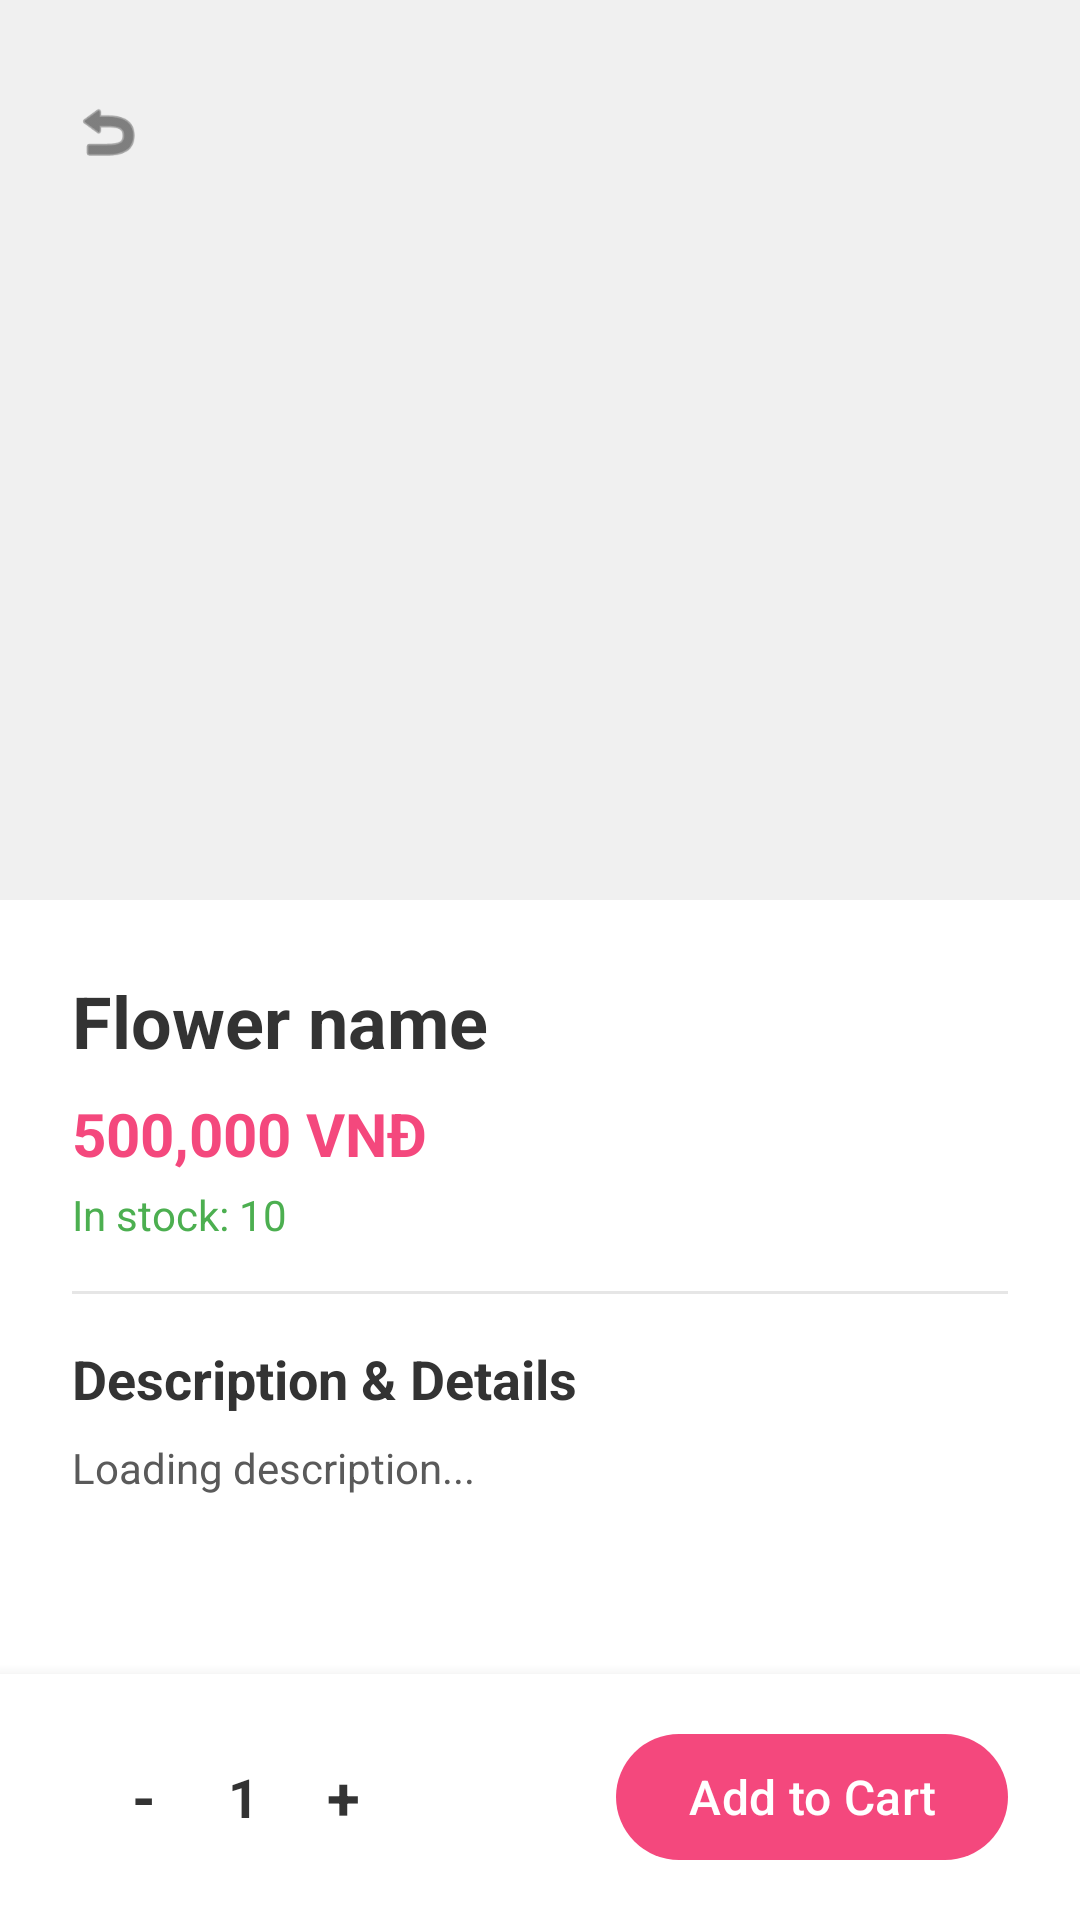

Where icons sit on this 1080 x 1920 app screen, as bbox=(x1, y1, x2, y2):
revert: bbox=(83, 109, 135, 156)
